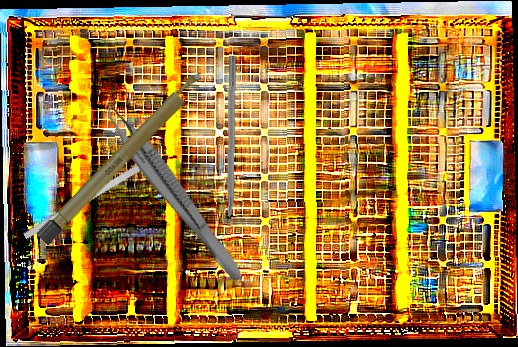Chopper: (215, 55, 237, 242)
Hook Surgical: (22, 148, 169, 240)
Scalpel Handle: (35, 68, 209, 246)
Tissue Forceps: (92, 93, 256, 285)
